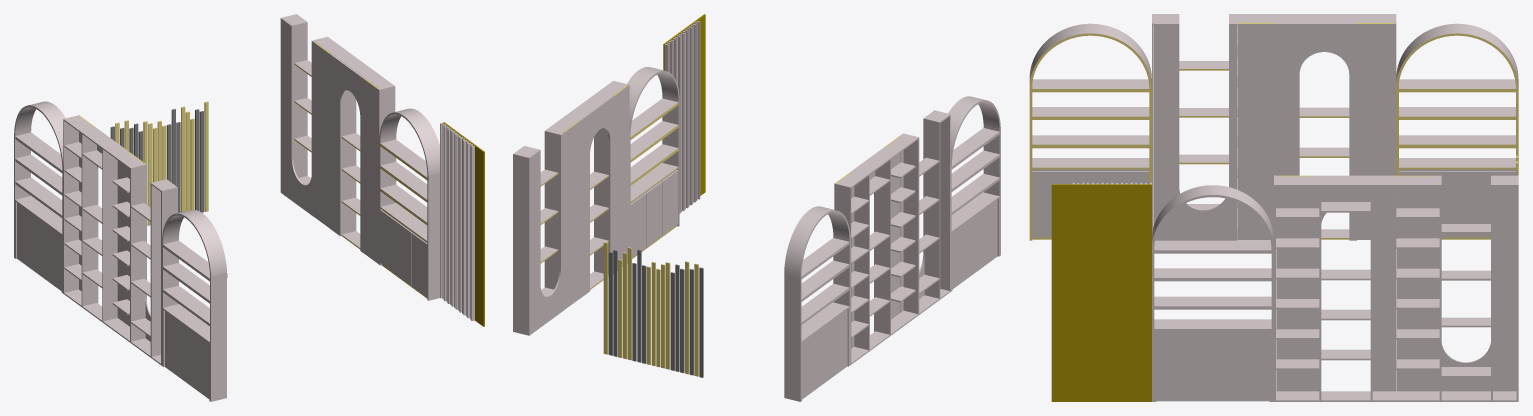
File: Showroom_01.glb
3 renders of one model, left to right at view 1: azimuth 30°, elevation 25°; view 2: azimuth 150°, elevation 25°; view 3: azimuth 270°, elevation 25°, orthographic. The views are drawn at different scales.
Parts seen in each view (by area): view 1: Geom3D_ (×3), Geom3D__36, Geom3D__38, Geom3D__114, Geom3D__115, Geom3D__12, Geom3D__81. Hậu, Geom3D__94. Hậu, Geom3D__11, Geom3D, Geom3D__5, Geom3D__29 (+39 smaller); view 2: Geom3D_ (×3), Geom3D__36, Geom3D__38, Geom3D__41, Geom3D__115, Geom3D__81. Hậu, Geom3D__94. Hậu, Geom3D__114, Geom3D__10, Geom3D__11, Geom3D__12, Geom3D__28 (+52 smaller); view 3: Geom3D__143, Geom3D__6, Geom3D__107. Hậu, Geom3D__112, Geom3D__38, Geom3D__36, Geom3D__7, Geom3D__113, Geom3D__115, Geom3D__114, Geom3D_ (×3), Geom3D__45 (+54 smaller).
Part boxes in pixels (x1,y1,x2,y2): Geom3D_ (×3): (14, 101, 439, 401); Geom3D__36: (281, 18, 315, 217); Geom3D__38: (330, 54, 364, 252); Geom3D__114: (363, 79, 378, 263); Geom3D__115: (315, 43, 329, 228); Geom3D__12: (102, 144, 117, 321); Geom3D__81. Hậu: (17, 203, 61, 290); Geom3D__94. Hậu: (165, 311, 209, 398); Geom3D__11: (130, 164, 145, 341); Geom3D: (81, 129, 96, 306); Geom3D__5: (63, 115, 79, 293); Geom3D__29: (292, 21, 307, 177); Geom3D_ (×3): (627, 67, 1000, 401); Geom3D__36: (529, 132, 564, 334); Geom3D__38: (578, 96, 613, 298); Geom3D__41: (513, 153, 530, 335); Geom3D__115: (564, 122, 579, 309); Geom3D__81. Hậu: (802, 309, 847, 398); Geom3D__94. Hậu: (952, 199, 997, 288); Geom3D__114: (613, 86, 628, 270); Geom3D__10: (924, 118, 940, 298); Geom3D__11: (903, 133, 919, 314); Geom3D__12: (875, 154, 890, 334); Geom3D__28: (544, 130, 559, 289); Geom3D__143: (1051, 184, 1151, 401); Geom3D__6: (1154, 23, 1237, 240); Geom3D__107. Hậu: (1156, 331, 1269, 401); Geom3D__112: (1237, 24, 1273, 240); Geom3D__38: (1312, 175, 1396, 391); Geom3D__36: (1433, 175, 1516, 391); Geom3D__7: (1274, 23, 1356, 240); Geom3D__113: (1357, 24, 1394, 239); Geom3D__115: (1396, 186, 1433, 391); Geom3D__114: (1276, 186, 1312, 391); Geom3D_ (×3): (1029, 23, 1518, 401); Geom3D__45: (1276, 391, 1516, 401).
Size of the model in its own units: 4.04 by 2.39 by 4.88.
